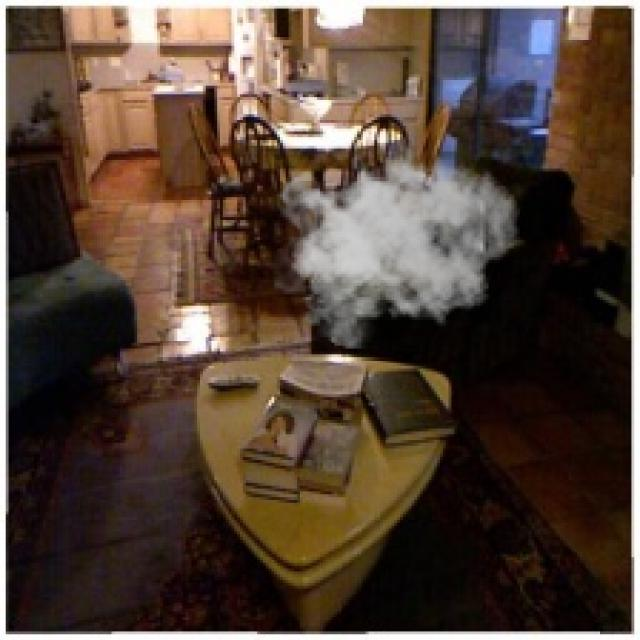smoke: (274, 134, 520, 349)
